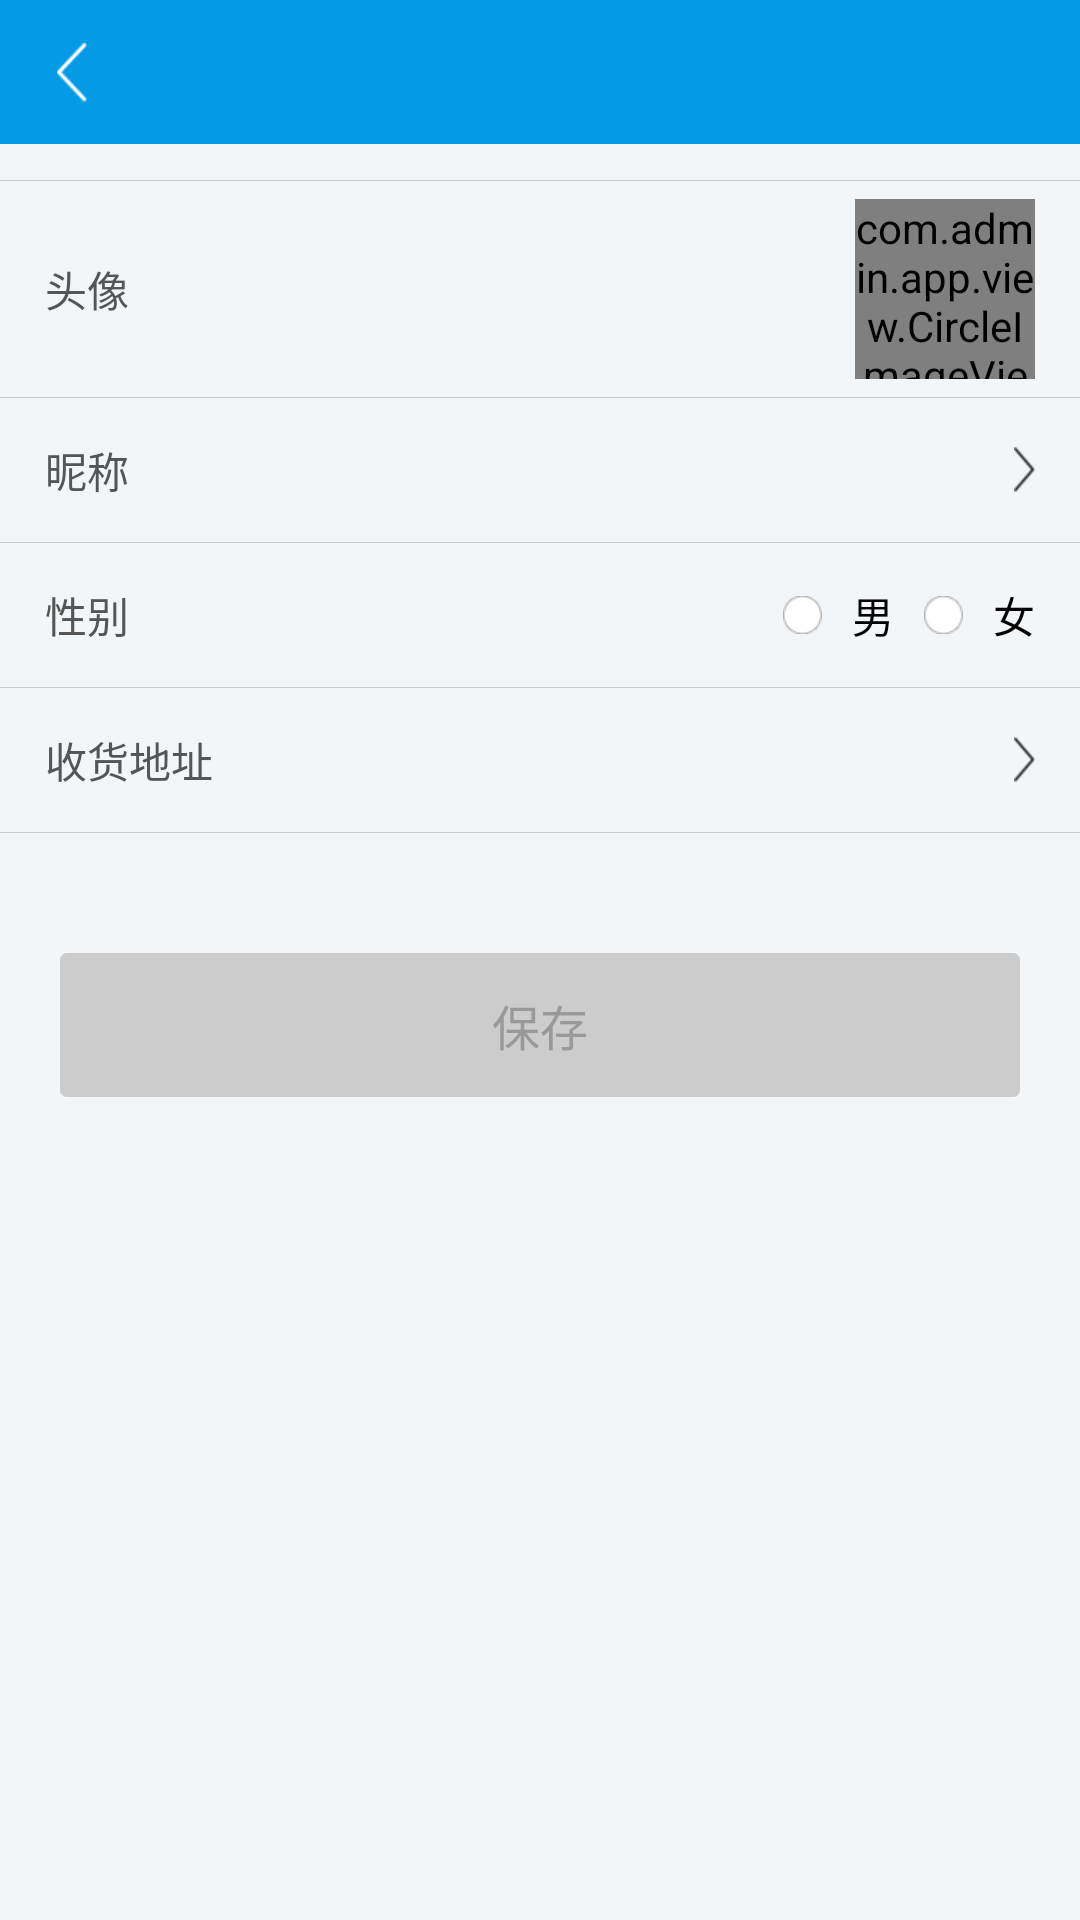

Point at icon controls on the screen. Image size 1080 x 1920, points as [x,y].
arrow left: [72,72]
